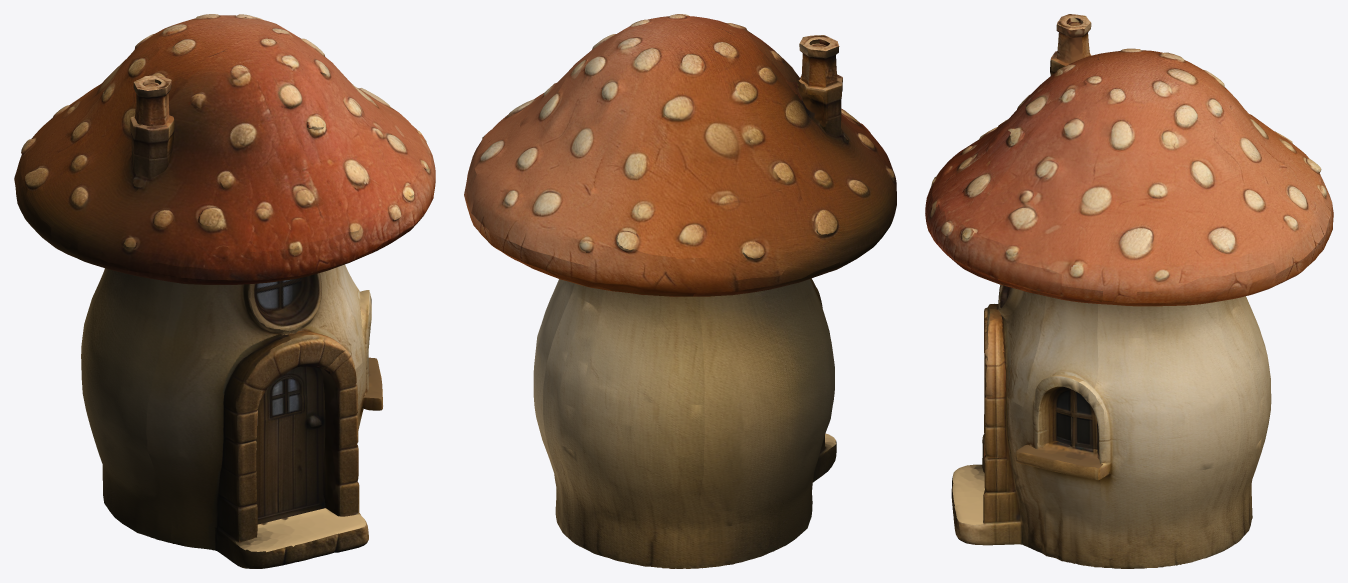
3 views of the same model, side by side, from view 1: azimuth 30°, elevation 25°; view 2: azimuth 150°, elevation 25°; view 3: azimuth 270°, elevation 25° (orthographic). The views are drawn at different scales.
Parts seen in each view (by area): view 1: MushroomHouse; view 2: MushroomHouse; view 3: MushroomHouse.
Part boxes in pixels (x1,y1,x2,y2): MushroomHouse: (14,14,435,568); MushroomHouse: (464,14,896,568); MushroomHouse: (925,14,1333,568).
Size of the model in its own units: 1.23 by 1.5 by 1.22.
Materials: 1 (1 with a texture image).
